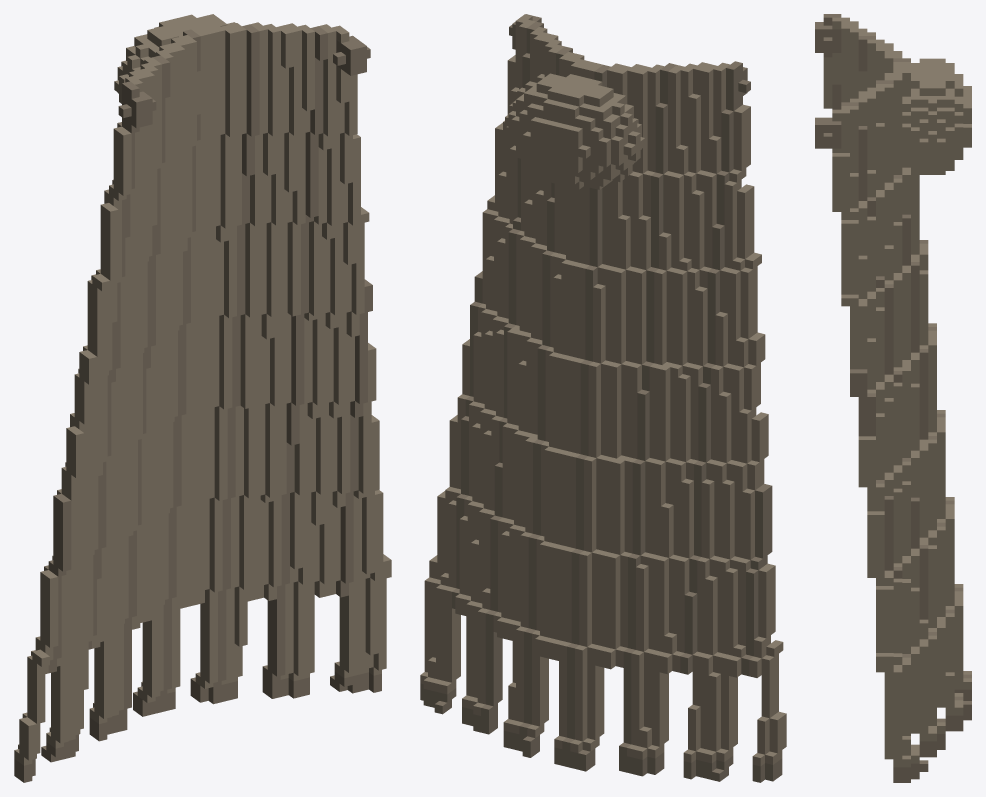
Rendered from leather_uncommon_cloak.glb.
The picture shows the model from 3 angles, left to right: view 1: azimuth 30°, elevation 25°; view 2: azimuth 150°, elevation 25°; view 3: azimuth 270°, elevation 25°; orthographic projection. The views are drawn at different scales.
Parts seen in each view (by area): view 1: leather_uncommon_cloak; view 2: leather_uncommon_cloak; view 3: leather_uncommon_cloak.
Part boxes in pixels (left/top/right/bottom): leather_uncommon_cloak: left=14, top=14, right=391, bottom=782; leather_uncommon_cloak: left=420, top=14, right=786, bottom=782; leather_uncommon_cloak: left=815, top=14, right=971, bottom=782.
Bounding box in the file's own units: 0.528 × 0.972 × 0.216.
